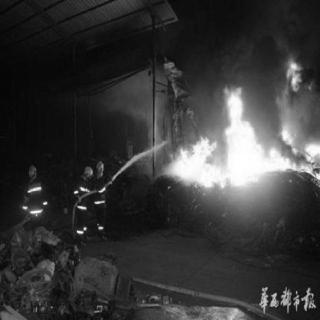Fire: (154, 64, 318, 193)
